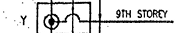Single Phase Tap-Off Unit: (34, 1, 95, 33)
